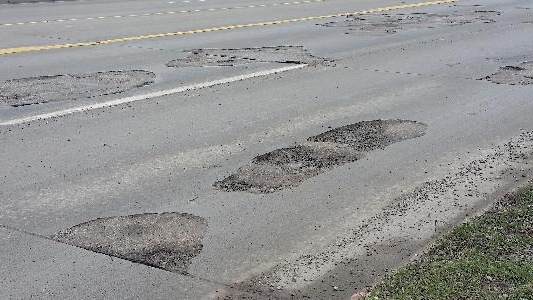pothole: (252, 145, 356, 168), (307, 117, 386, 147), (135, 247, 197, 273)
